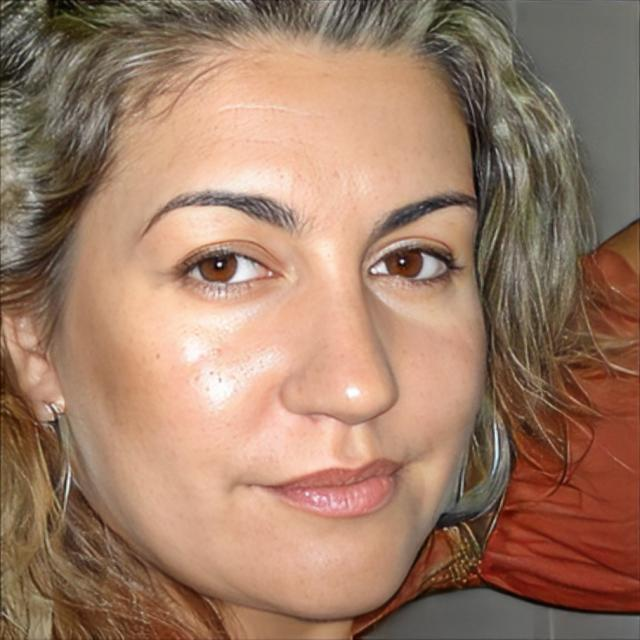content: (67, 27, 490, 620)
